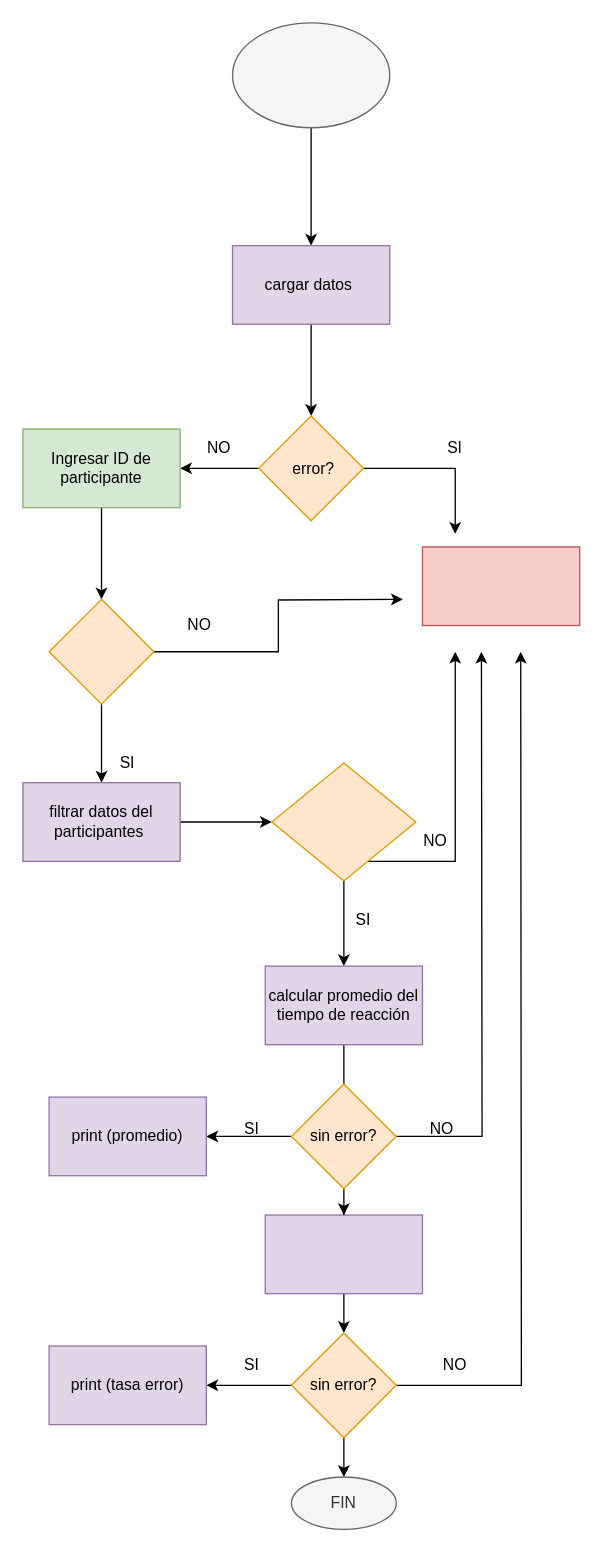
The diagram is 603 pixels wide and 1552 high, and some of its shapes have lost their labels. The box of each missing label's shape, as (x1, y1, x2, y2) in pixels:
calcular tasa error: (264, 1214, 422, 1294)
Except ValueError print (ERROR) FIN: (421, 546, 580, 626)
existe el participante?: (271, 762, 416, 881)
ID valido?: (48, 598, 154, 704)
INICIO: (231, 22, 390, 128)
